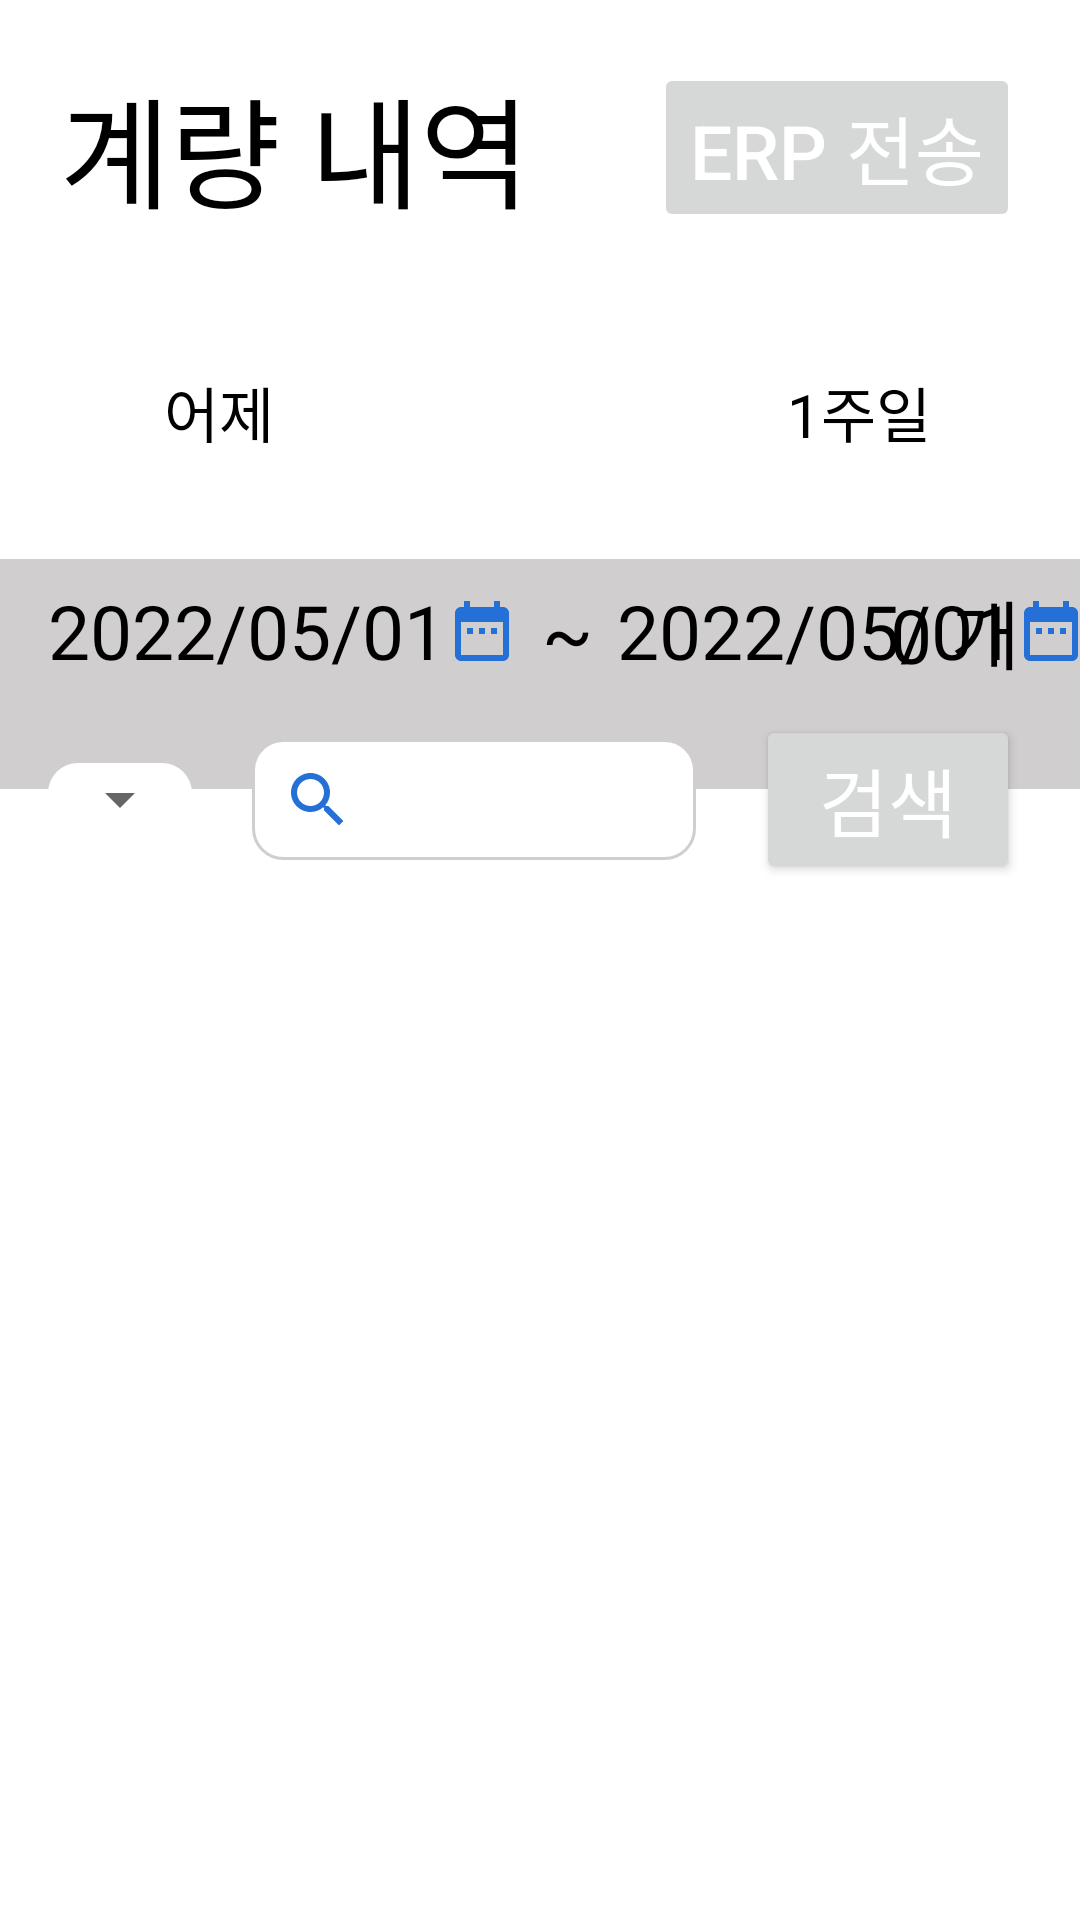

Where to tap for icons on this 1080 x 1920 app screen, as point (x, y):
search: point (317, 799)
